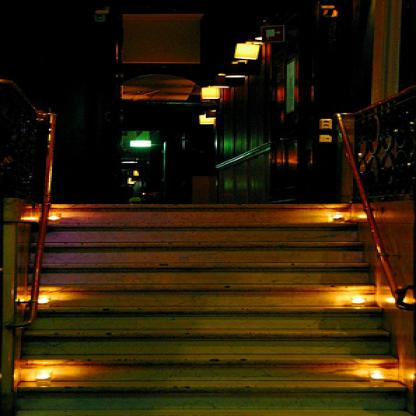stairs: (52, 203, 353, 414)
